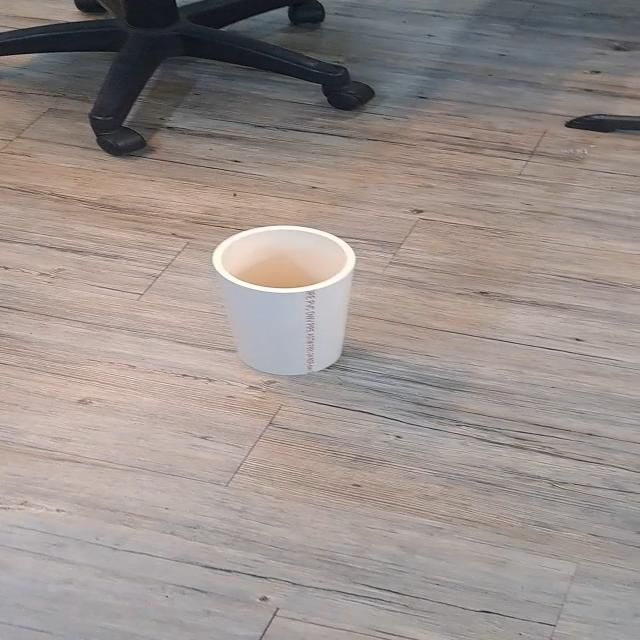CORAL: (202, 220, 383, 381)
